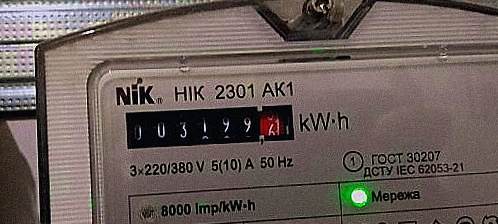0: (155, 120, 167, 139), (132, 121, 142, 140)
1: (199, 115, 209, 133)
3: (177, 119, 188, 139)
6: (265, 121, 276, 135)
9: (220, 113, 231, 134), (242, 115, 253, 133)
screen: (117, 95, 301, 155)
